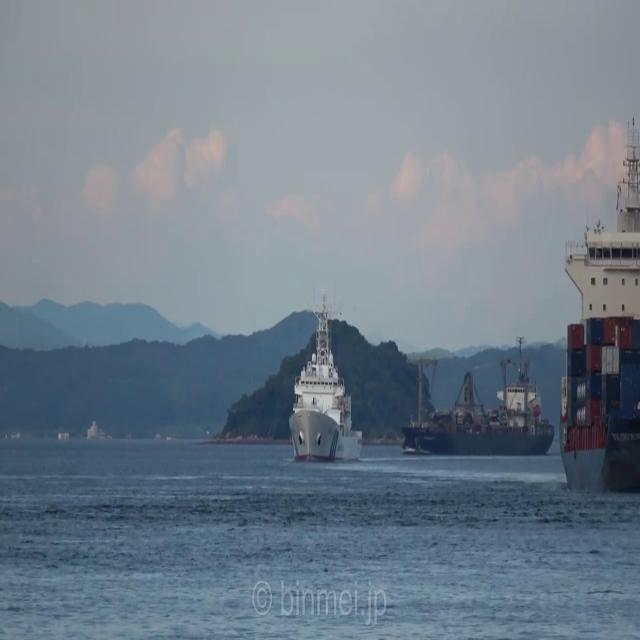Ship: (561, 177, 640, 494), (290, 343, 364, 463)
